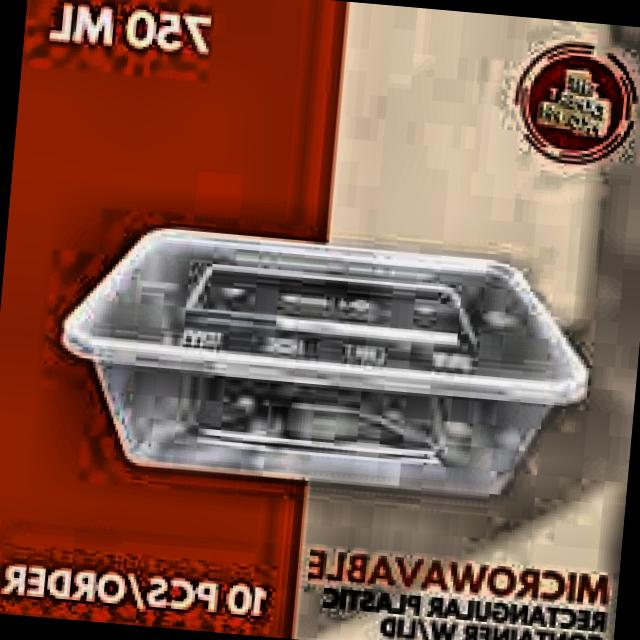plastic container: (62, 229, 587, 495)
